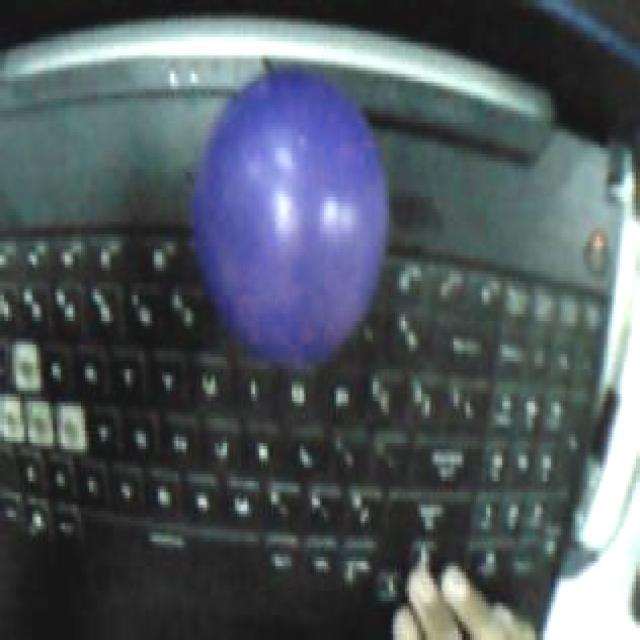BallPurple: (192, 72, 388, 369)
